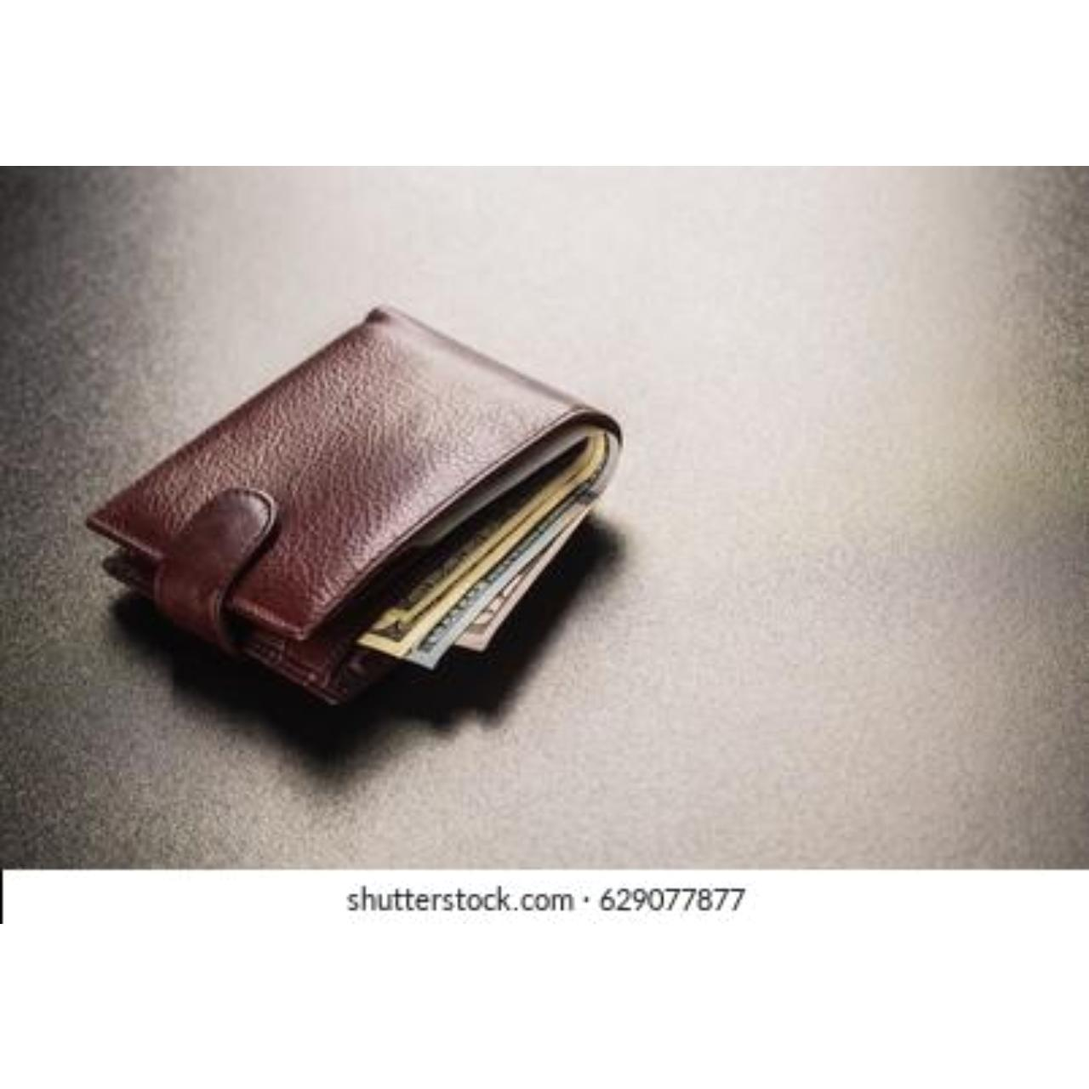wallet: (79, 279, 709, 742)
